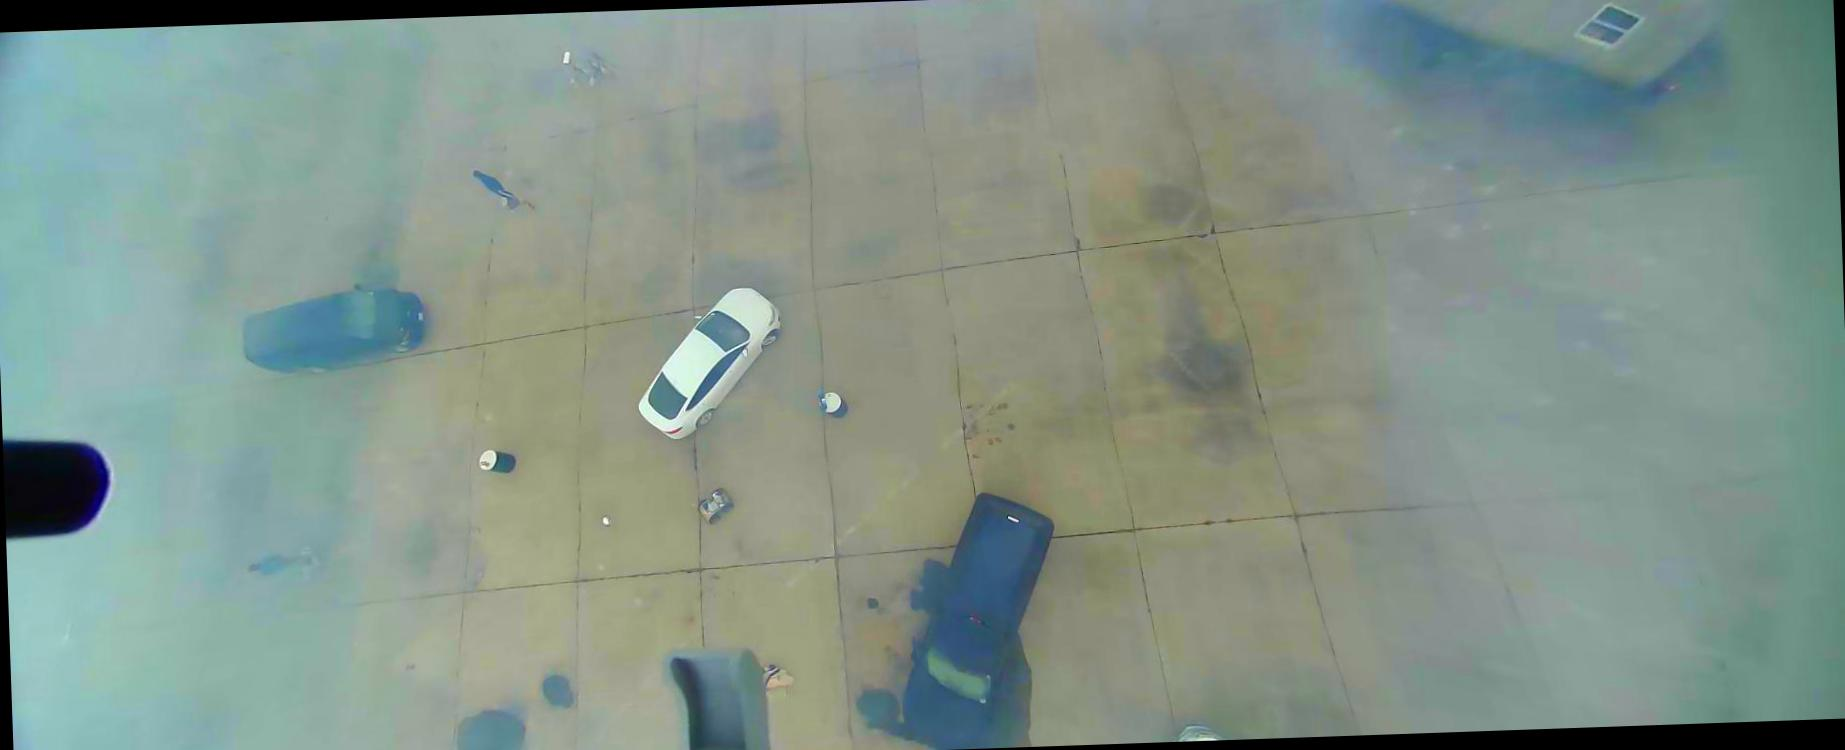vehicle: (892, 489, 1065, 749), (633, 285, 788, 442), (240, 280, 428, 378), (697, 486, 734, 526), (1172, 724, 1226, 741)
